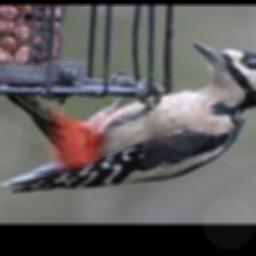Woodpecker: (2, 43, 256, 193)
